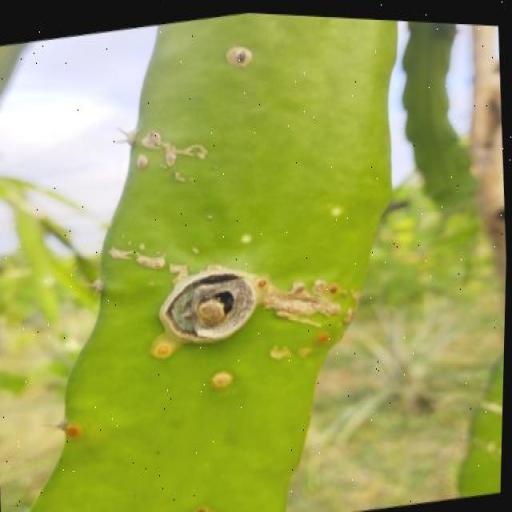stemcanker: (232, 34, 267, 73), (206, 351, 238, 376), (144, 129, 160, 160), (243, 216, 259, 245), (190, 228, 208, 244)
